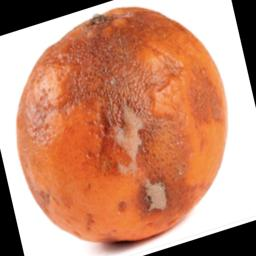Orange Rotten: (2, 0, 240, 238)
